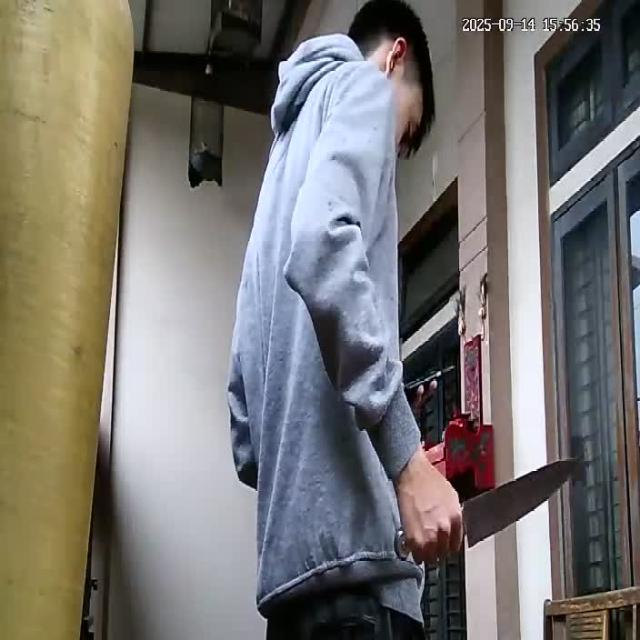senjata_tajam: (464, 454, 581, 549)
